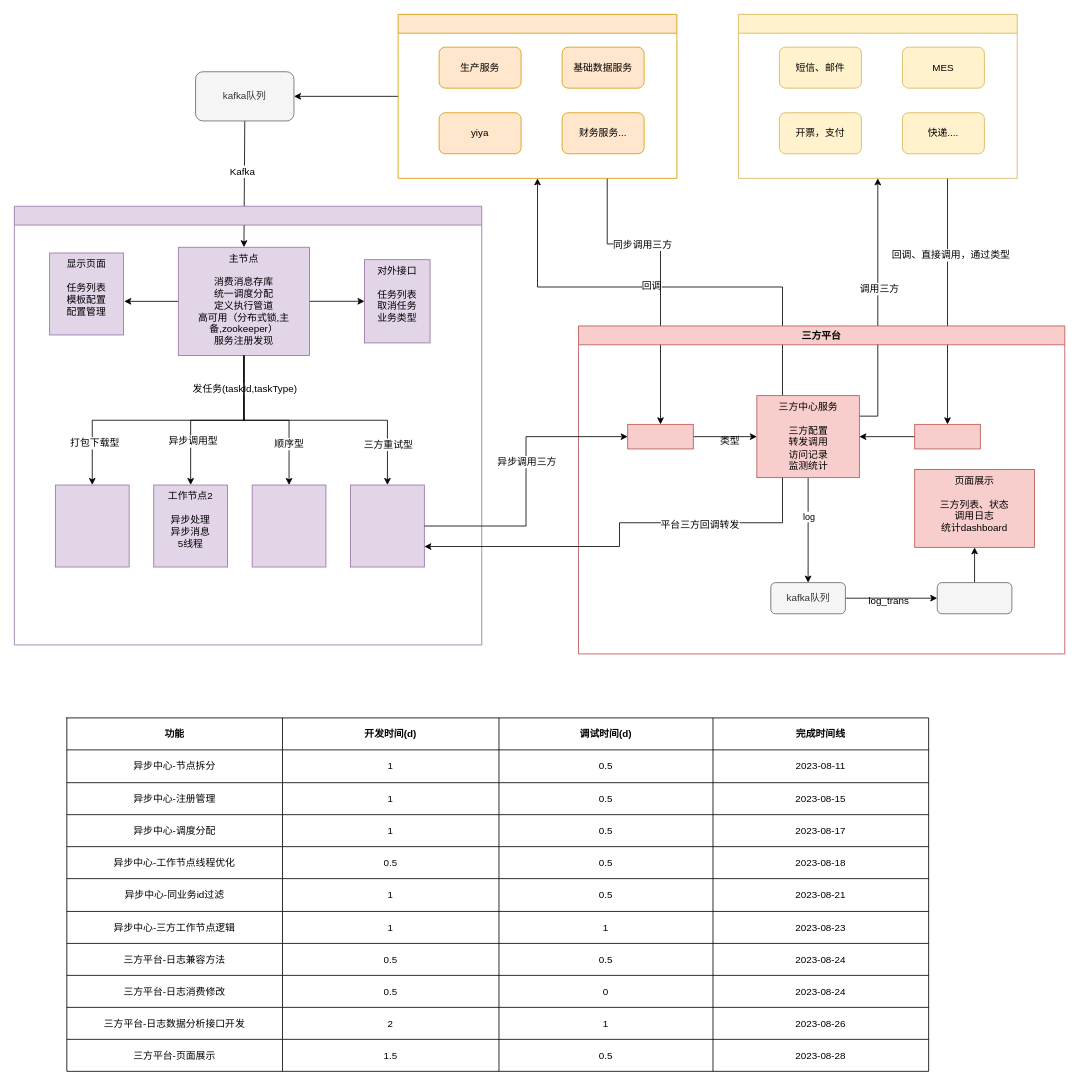
Some shapes in this 1079 by 1086 pixel diagram are drawn without their labels. Here are the shapes that lost their labels. From the top down, the box of each, then its label:
(397, 14, 677, 178): 业务服务
(738, 14, 1017, 178): 第三方
(14, 205, 482, 645): 异步任务中心
(627, 424, 693, 449): 对内接口
(914, 424, 980, 449): 对外接口
(55, 484, 129, 567): 工作节点1 导出任务 打包任务 5线程
(251, 484, 326, 567): 工作节点3 顺序消费 同业务id过滤 多业务多台？ 1线程
(350, 484, 424, 567): 工作节点4 三方接口 反复重试回调 5线程
(936, 582, 1012, 614): clickhouse
